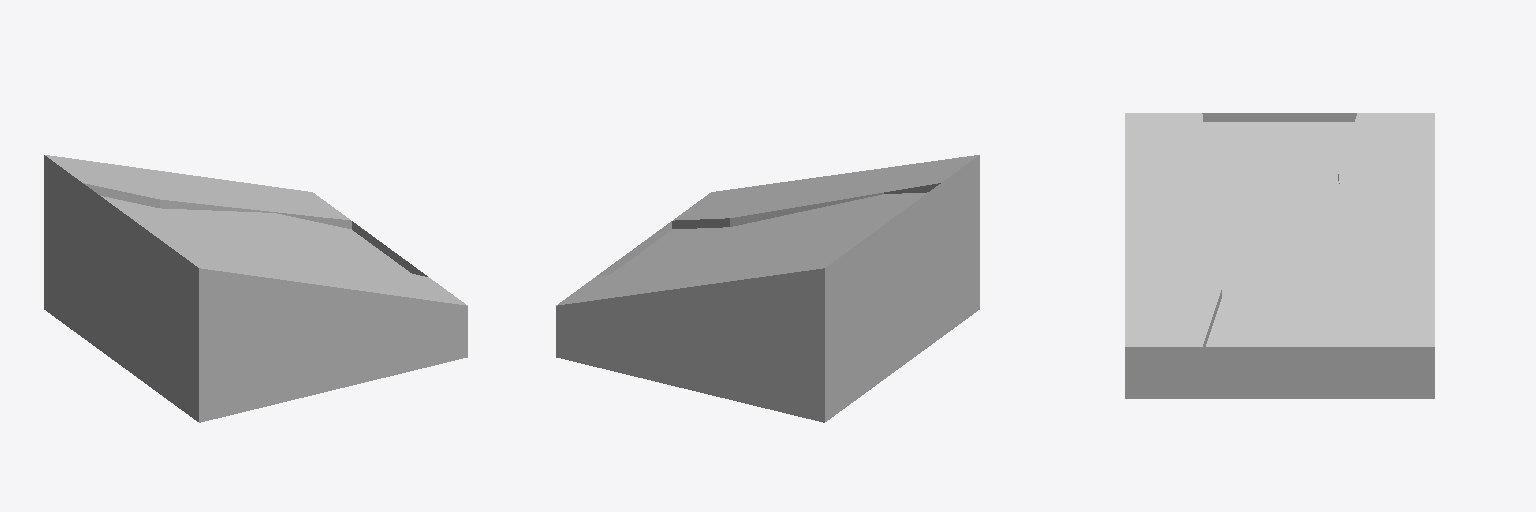
3 renders of one model, left to right at view 1: azimuth 30°, elevation 25°; view 2: azimuth 150°, elevation 25°; view 3: azimuth 270°, elevation 25°, orthographic.
Parts seen in each view (by area): view 1: roadTile_018.001; view 2: roadTile_018.001; view 3: roadTile_018.001.
Part boxes in pixels (x1,y1,x2,y2): roadTile_018.001: (44,155,467,422); roadTile_018.001: (556,155,979,422); roadTile_018.001: (1125,113,1434,398).
Bounding box in the file's own units: 3 × 1.65 × 3.